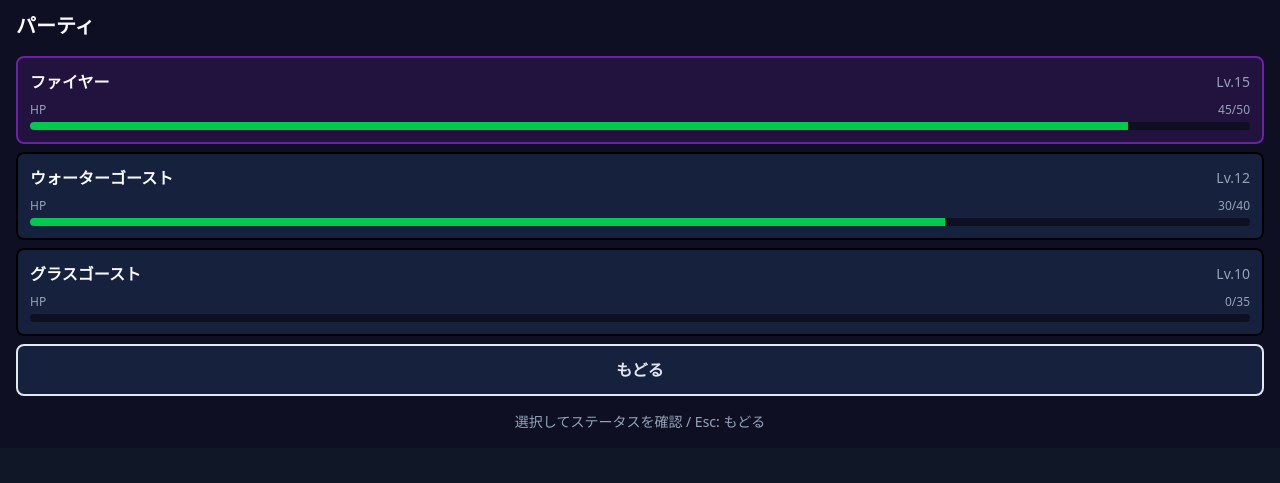
Test case: PartyScreen › クリック操作 › ゴーストをクリックすると詳細パネルが開く
Step 1. Click the button with test id "ghost-summary-card" showing "ファイヤー Lv.15 HP 45/50" → (70, 82), box [16,56,1264,144]
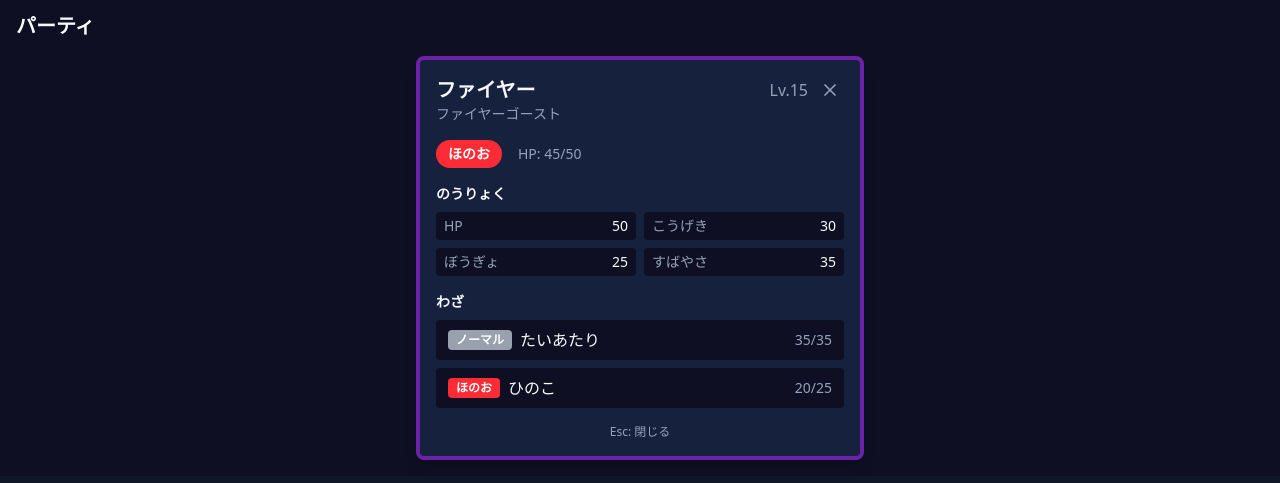
Check: the element with test id "ghost-detail-panel" is shown, box [416,56,864,460]
